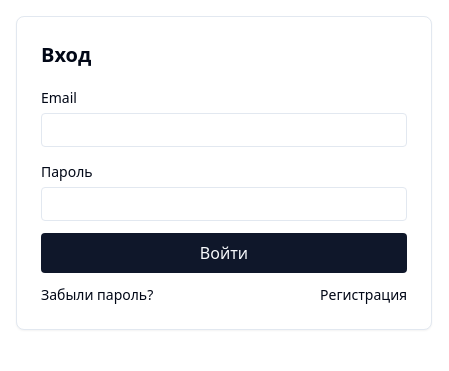
LoginPage › shows invalid-credentials error on 401
In the field labelled "Email": (224,130) [41, 113, 407, 147], type "a@b.co"
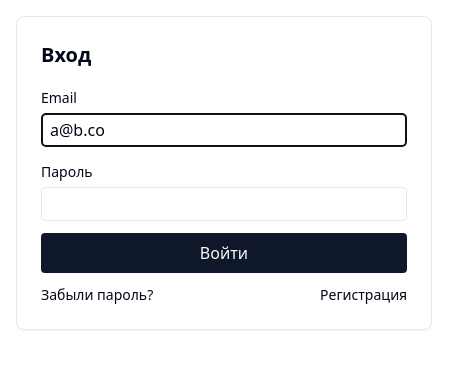
In the password field labelled "Пароль": (224,204) [41, 187, 407, 221], type "12345678"
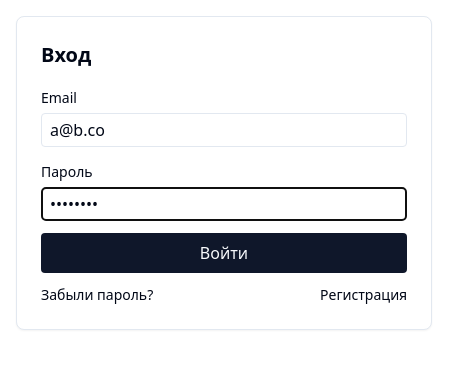
Click the button "Войти": (224,253) [41, 233, 407, 273]
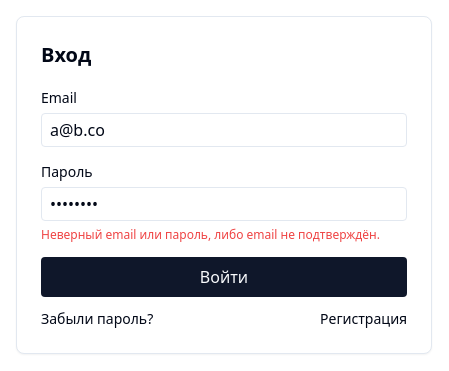
Expected: the text "Неверный email или пароль, либо email не подтверждён." is shown, [41, 226, 380, 243]
